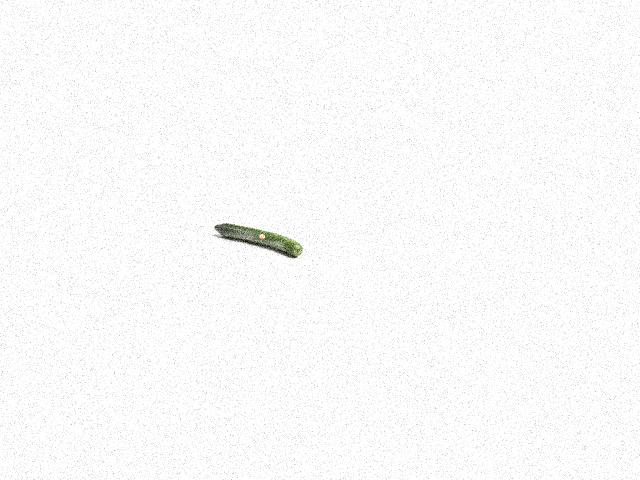cucumber: (214, 223, 303, 256)
